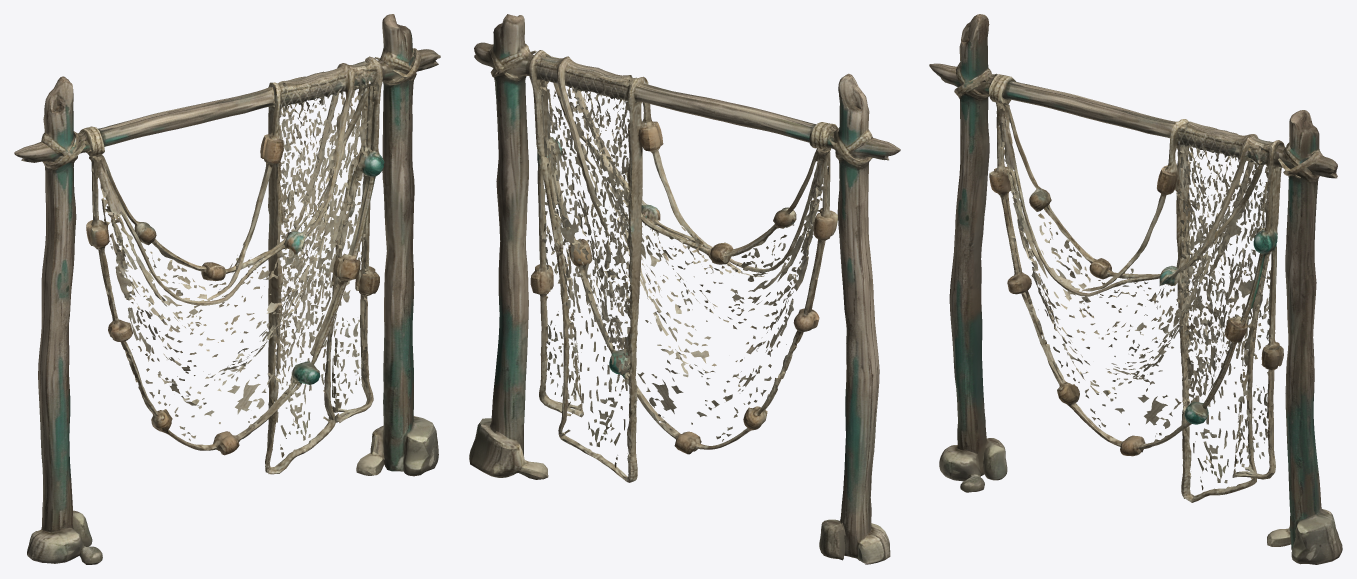
The model's file is tidewake_net_drying_rack.glb.
The picture shows the model from 3 angles, left to right: view 1: azimuth 30°, elevation 25°; view 2: azimuth 150°, elevation 25°; view 3: azimuth 330°, elevation 25°; orthographic projection. The views are drawn at different scales.
Visible parts, largest first — view 1: Mesh_0; view 2: Mesh_0; view 3: Mesh_0.
Boxes of the visible parts, <box> form: Mesh_0: <box>14,14,440,564</box>; Mesh_0: <box>469,14,900,564</box>; Mesh_0: <box>929,14,1342,564</box>.
Bounding box in the file's own units: 1.77 × 1.89 × 0.2991.
1 material, 1 textured.
